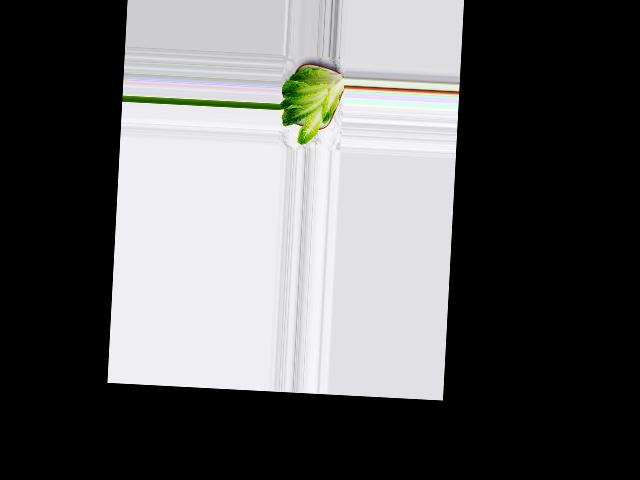lettuce: (277, 61, 343, 148)
